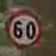limite 60: (4, 8, 43, 48)
